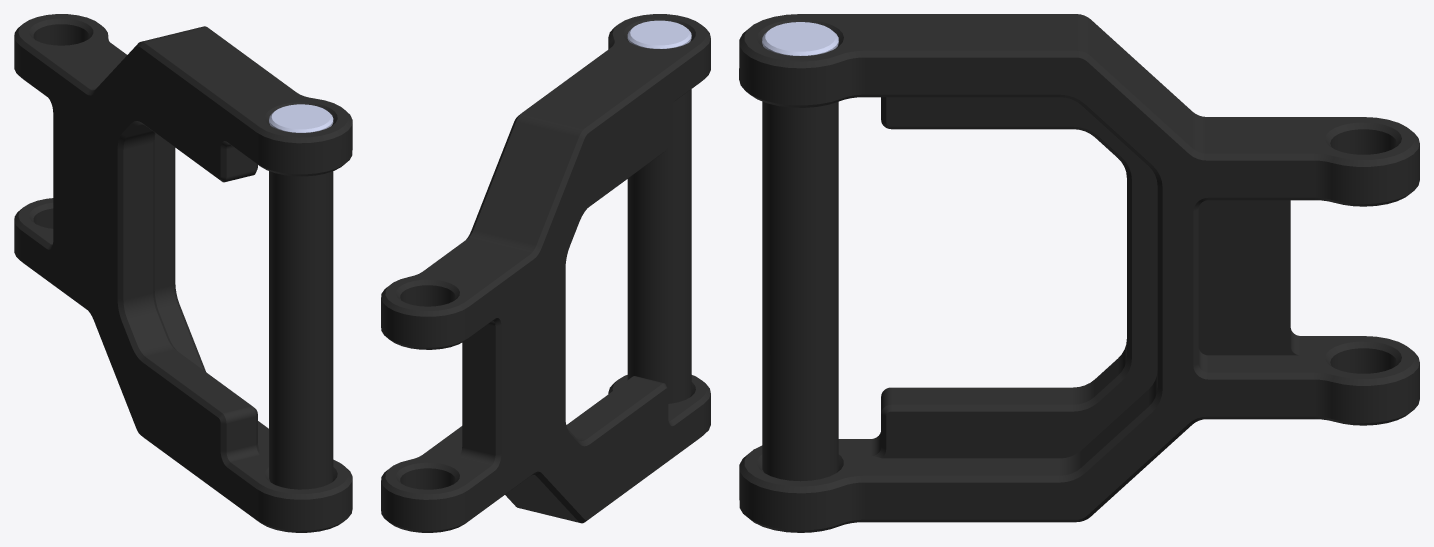
3 renders of one model, left to right at view 1: azimuth 30°, elevation 25°; view 2: azimuth 150°, elevation 25°; view 3: azimuth 270°, elevation 25°, orthographic. The views are drawn at different scales.
Parts seen in each view (by area): view 1: FINGER_PROXIMAL_PHALANX_V3_29.STEP; view 2: FINGER_PROXIMAL_PHALANX_V3_29.STEP; view 3: FINGER_PROXIMAL_PHALANX_V3_29.STEP.
Part boxes in pixels (left/top/right/bottom): FINGER_PROXIMAL_PHALANX_V3_29.STEP: left=14, top=14, right=352, bottom=532; FINGER_PROXIMAL_PHALANX_V3_29.STEP: left=381, top=14, right=710, bottom=532; FINGER_PROXIMAL_PHALANX_V3_29.STEP: left=739, top=14, right=1419, bottom=532.
Bounding box in the file's own units: 0.012 × 0.051 × 0.0665.
